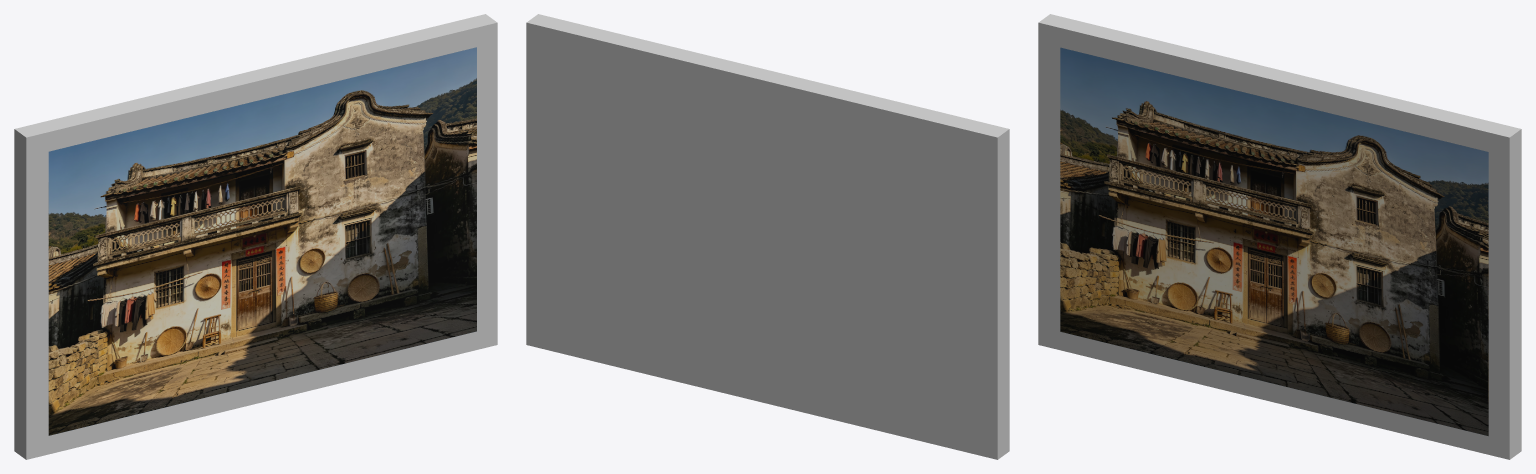
The picture shows the model from 3 angles, left to right: view 1: azimuth 30°, elevation 25°; view 2: azimuth 150°, elevation 25°; view 3: azimuth 330°, elevation 25°; orthographic projection.
Visible parts, largest first — view 1: 平面, 立方体; view 2: 立方体; view 3: 平面, 立方体.
Boxes of the visible parts, box(x1,y1,x2,y2) form: 平面: box(48, 47, 476, 435); 立方体: box(14, 14, 497, 459); 立方体: box(526, 14, 1009, 459); 平面: box(1060, 47, 1488, 436); 立方体: box(1038, 14, 1521, 459).
Size of the model in its own units: 3.47 by 2.27 by 0.1551.
1 material, 1 textured.
